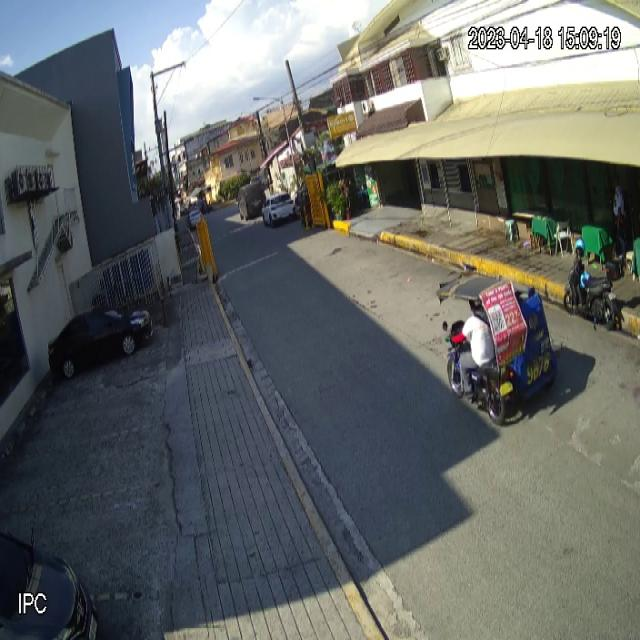Car: (48, 306, 153, 379)
Motorcycle: (562, 252, 626, 333)
Tricycle: (436, 272, 558, 426)
